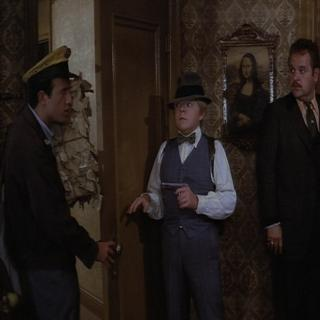gun: (159, 172, 192, 216)
